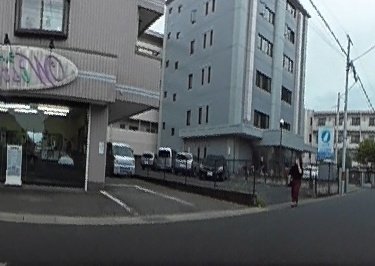person: (287, 156, 302, 201)
